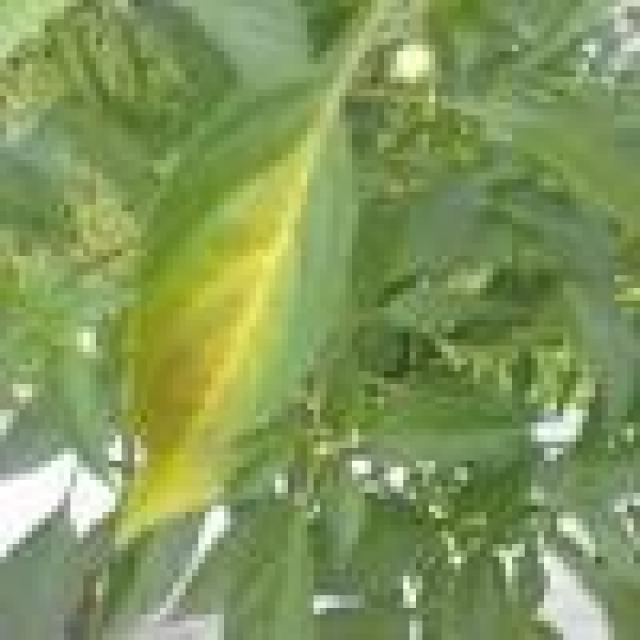virus_kuning: (142, 95, 365, 348)
